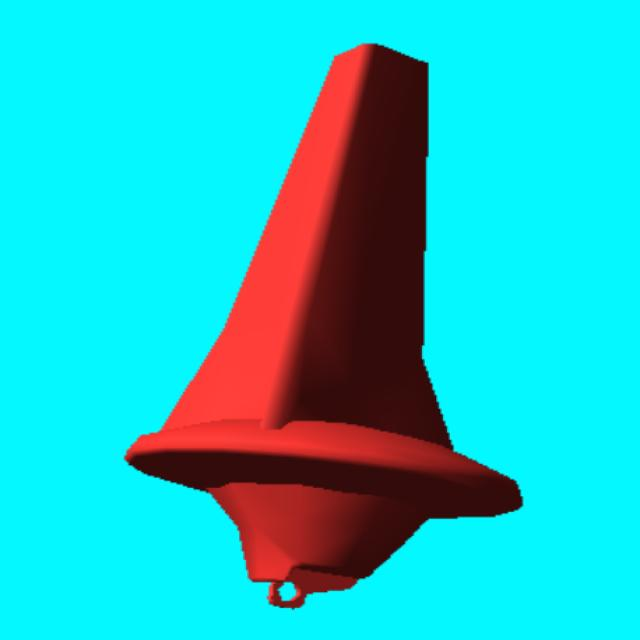RedBuoy: (125, 44, 521, 607)
